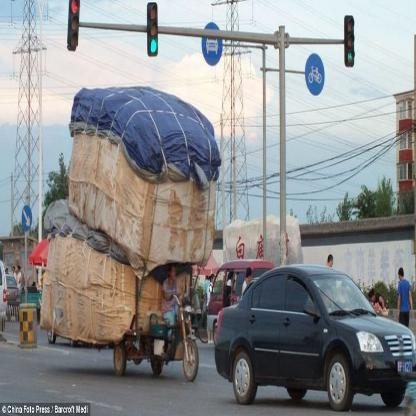overloaded-truck: (37, 91, 211, 383)
